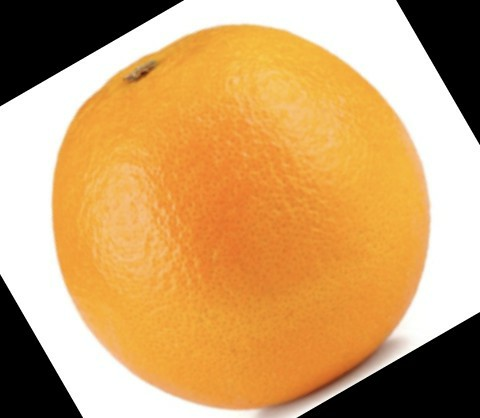fresh_orange: (53, 26, 430, 406)
